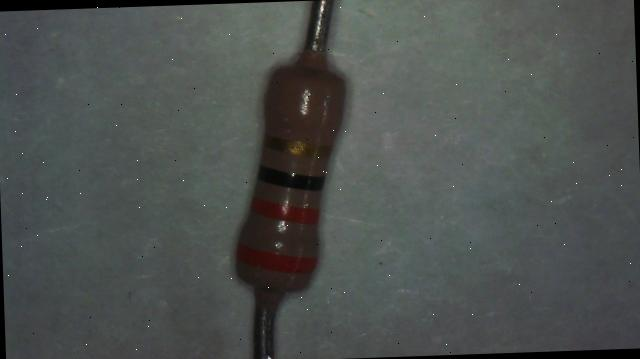black: (258, 163, 325, 193)
gold: (265, 136, 324, 156)
orange: (236, 243, 316, 276), (250, 196, 319, 227)
resistor: (213, 46, 374, 310)
